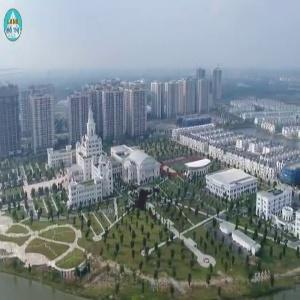drone: (94, 155, 190, 251)
